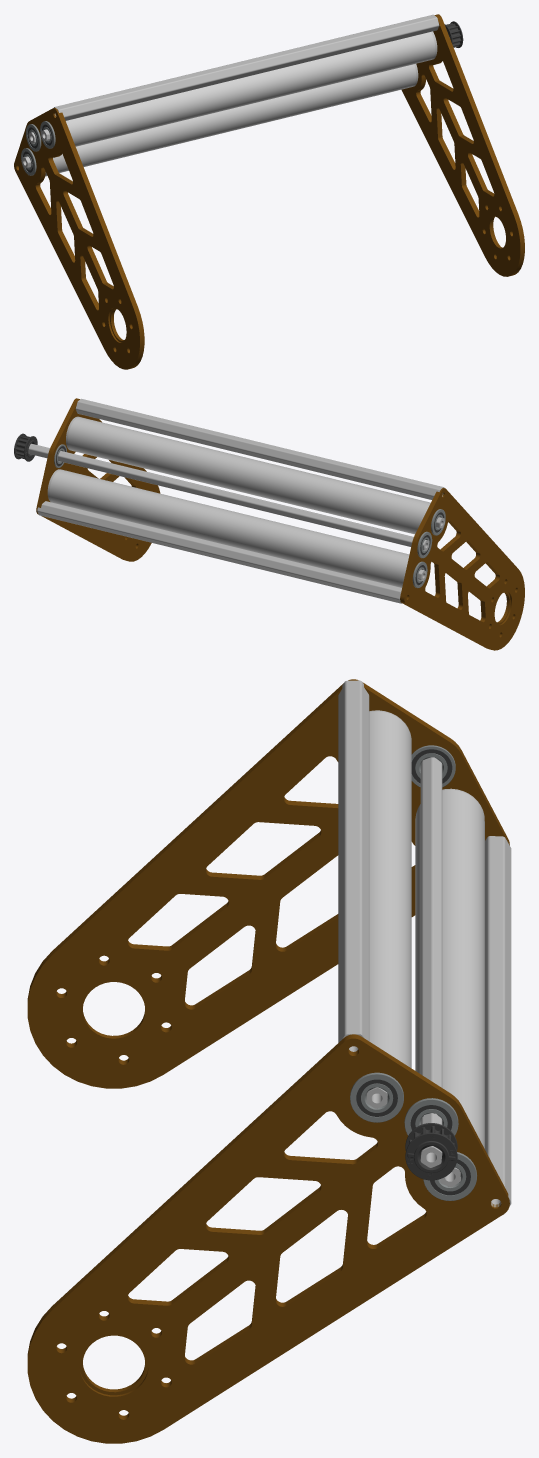
3 renders of one model, top to bottom at view 1: azimuth 30°, elevation 25°; view 2: azimuth 150°, elevation 25°; view 3: azimuth 270°, elevation 25°, orthographic. The views are drawn at different scales.
Visible parts, largest first — view 1: Shooter Hood (×2), hood Roller Polycarb Tube (×2), pivot standoff; view 2: hood Roller Polycarb Tube (×2), Shooter Hood (×2), pivot standoff (×2), Hood Middle Hex; view 3: Shooter Hood (×2), hood Roller Polycarb Tube (×2), pivot standoff (×2), Hood Middle Hex, am-4489 FR6 2RS-Hex HD Bearing (×4), am-4960 14 Tooth 5mm HTD 0375 Hex Pulley (9mm wid.
Part boxes in pixels (bbox=[...]): Shooter Hood (×2): bbox=[14, 14, 524, 369]; hood Roller Polycarb Tube (×2): bbox=[45, 32, 435, 176]; pivot standoff: bbox=[54, 14, 439, 120]; hood Roller Polycarb Tube (×2): bbox=[49, 417, 430, 587]; Shooter Hood (×2): bbox=[36, 398, 524, 650]; pivot standoff (×2): bbox=[37, 398, 444, 603]; Hood Middle Hex: bbox=[28, 443, 429, 550]; Shooter Hood (×2): bbox=[27, 679, 509, 1443]; hood Roller Polycarb Tube (×2): bbox=[369, 711, 484, 1148]; pivot standoff (×2): bbox=[338, 680, 511, 1214]; Hood Middle Hex: bbox=[420, 757, 442, 1167]; am-4489 FR6 2RS-Hex HD Bearing (×4): bbox=[350, 745, 477, 1200]; am-4960 14 Tooth 5mm HTD 0375 Hex Pulley (9mm wid: bbox=[405, 1130, 457, 1180].
Size of the model in its own units: 0.4312 by 0.2043 by 0.221.
